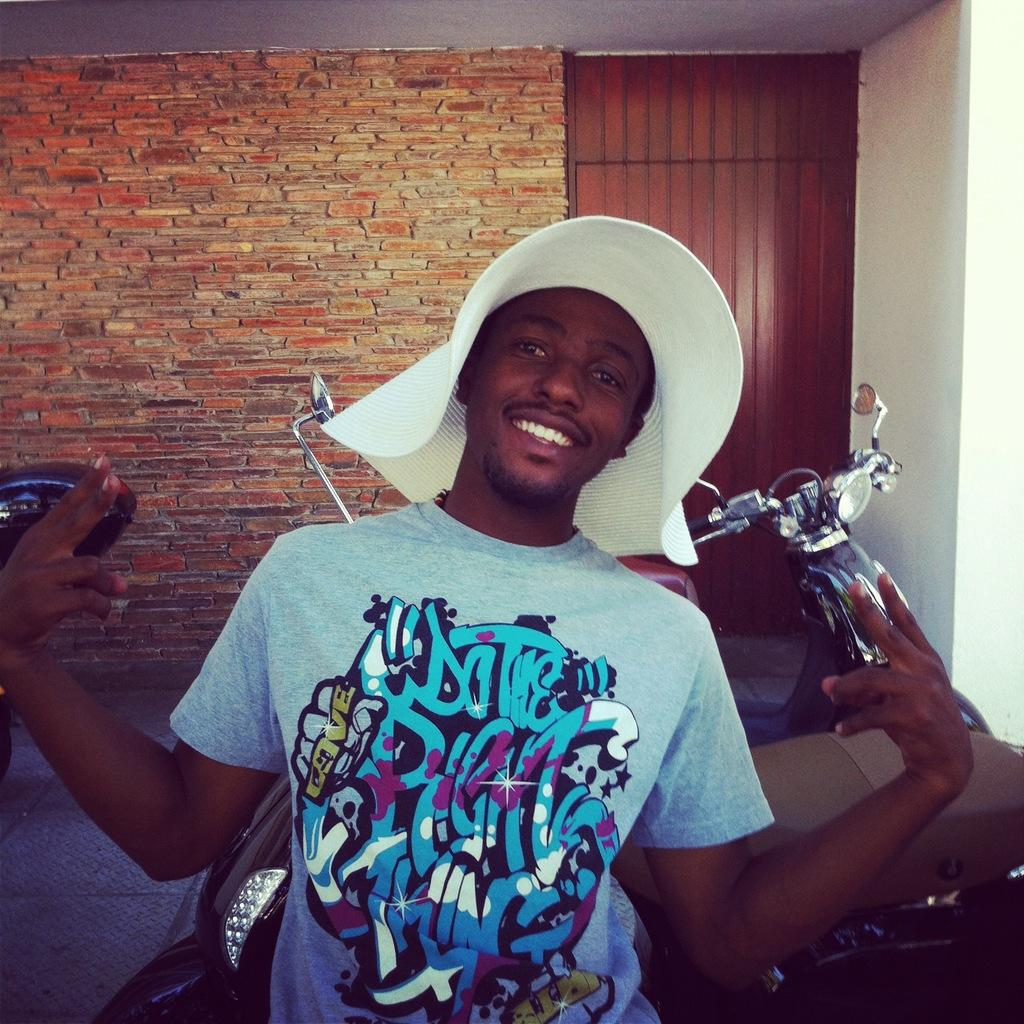Hat: (318, 212, 747, 563)
